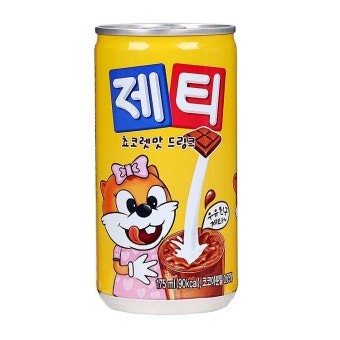paper: (90, 22, 244, 318)
